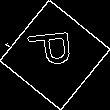P_E: (28, 34, 82, 76)
